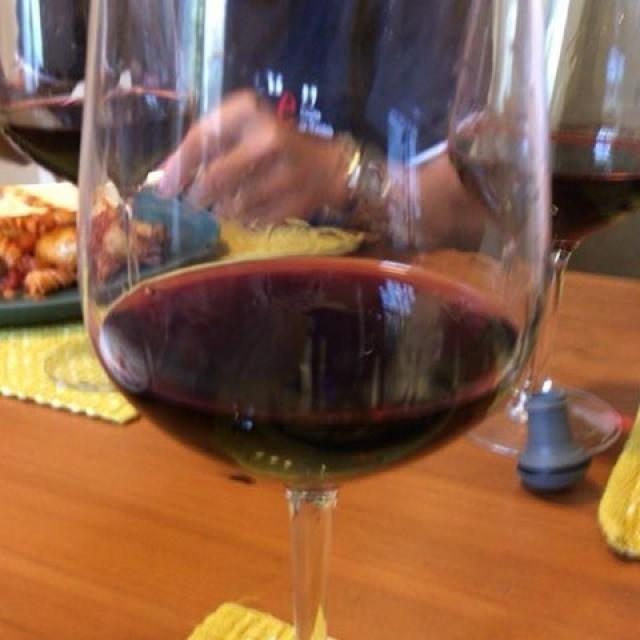wine: (93, 237, 530, 470)
